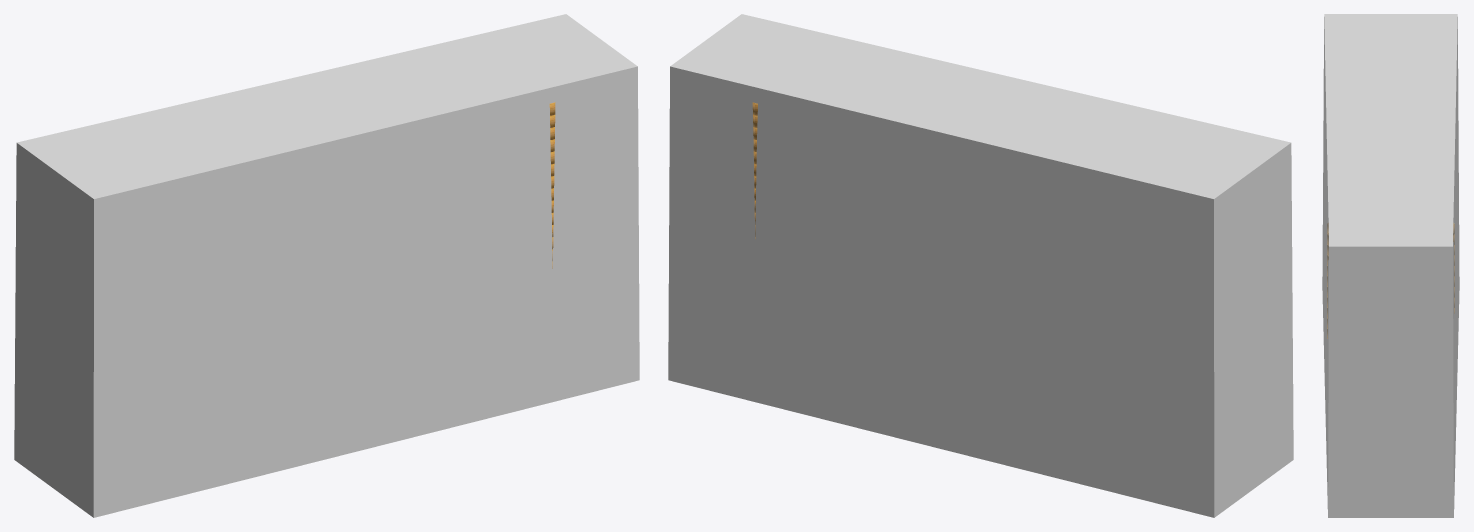
The model's file is Galleta.fbx.
3 renders of one model, left to right at view 1: azimuth 30°, elevation 25°; view 2: azimuth 150°, elevation 25°; view 3: azimuth 270°, elevation 25°, orthographic. The views are drawn at different scales.
Parts seen in each view (by area): view 1: Cubo; view 2: Cubo; view 3: Cubo, Cilindro.
Boxes of the visible parts, bbox=[...] form: Cubo: bbox=[14, 14, 639, 517]; Cubo: bbox=[668, 14, 1293, 517]; Cubo: bbox=[1322, 14, 1459, 517]; Cilindro: bbox=[1327, 223, 1454, 338].
Size of the model in its own units: 53.43 by 29.53 by 13.38.
1 material, 1 textured.
